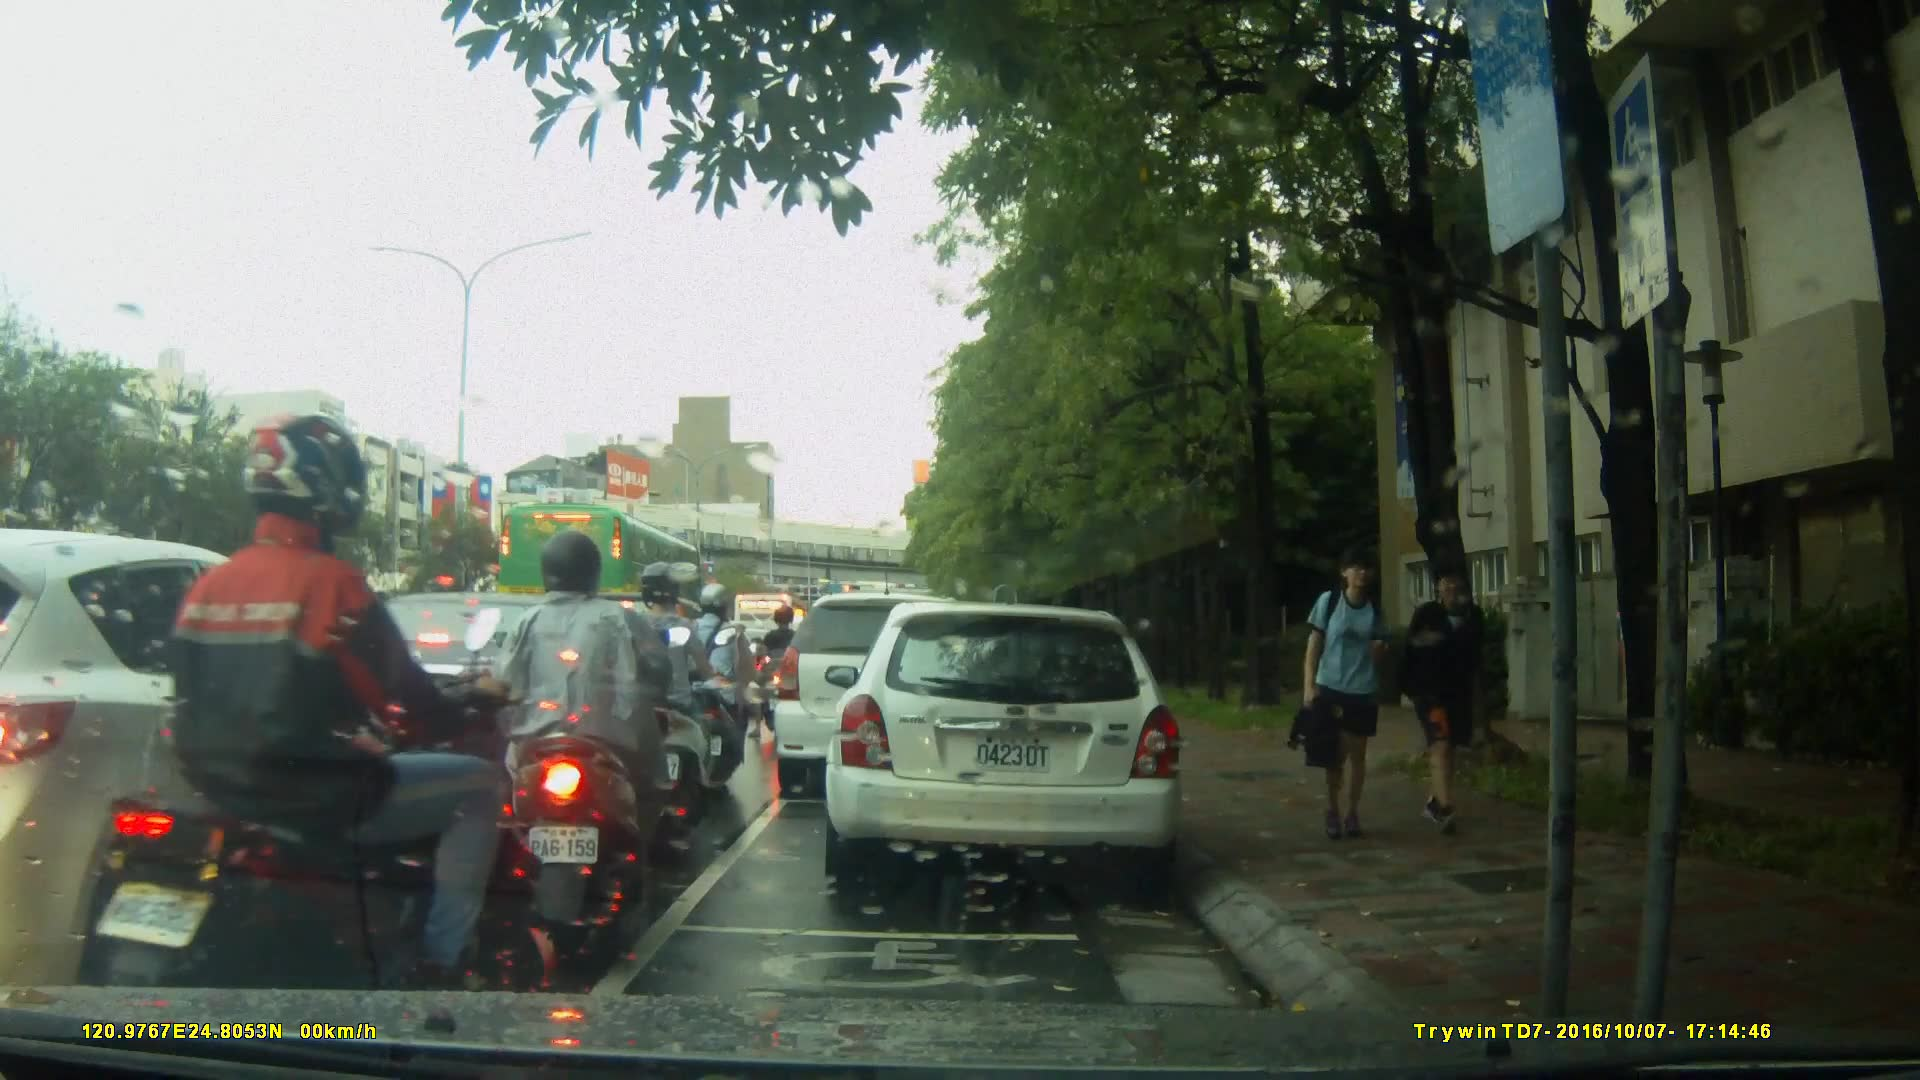pedestrian: (1287, 543, 1409, 847), (1410, 548, 1498, 837)
rider: (99, 412, 547, 1065), (493, 538, 693, 926), (607, 564, 720, 836), (679, 582, 756, 786), (758, 601, 803, 734)
vehicle: (1, 528, 452, 988), (831, 592, 1196, 897), (318, 590, 627, 789), (770, 590, 999, 803), (495, 500, 707, 636)
